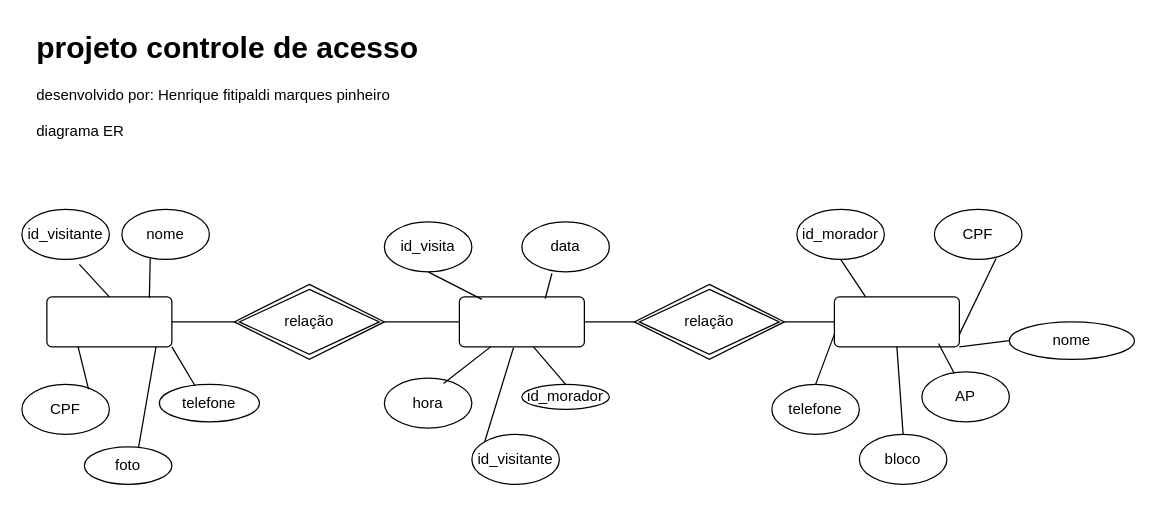
Image size: 1156x506. Some labels were removed from this diagram. The box of each missing label's shape, as (x1, y1, x2, y2) in pixels:
morador: (833, 296, 959, 347)
visita: (458, 296, 584, 347)
visitante: (46, 296, 172, 347)
